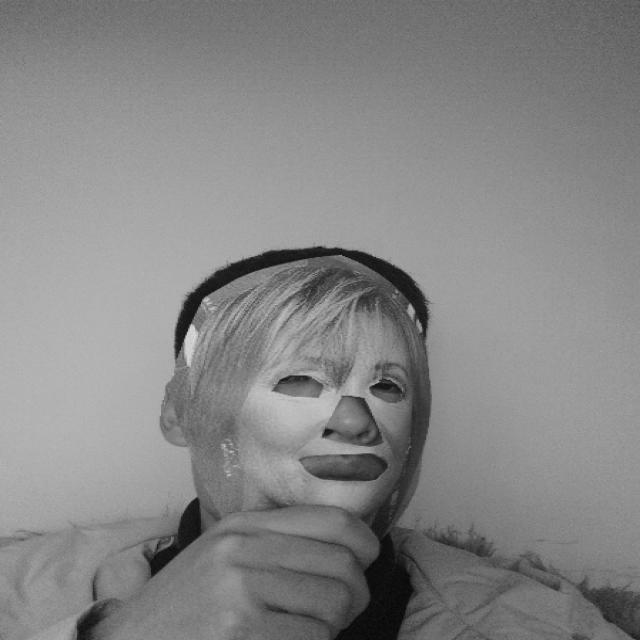fake: (162, 254, 436, 543)
